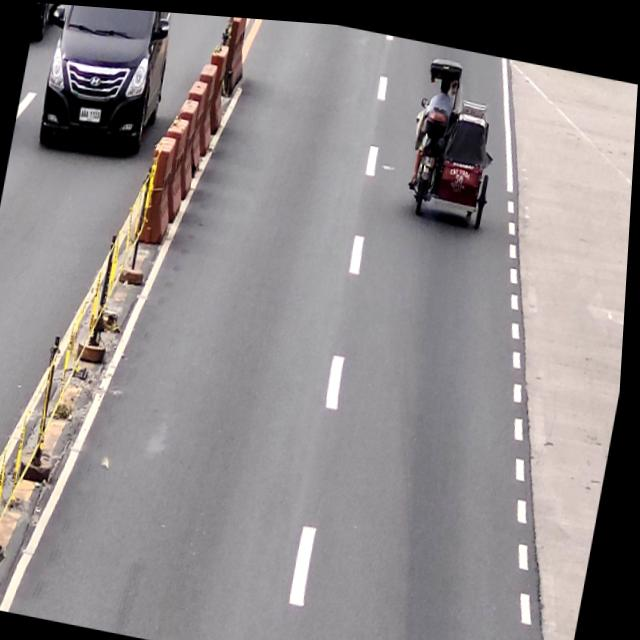Tricycle: (403, 46, 512, 227)
